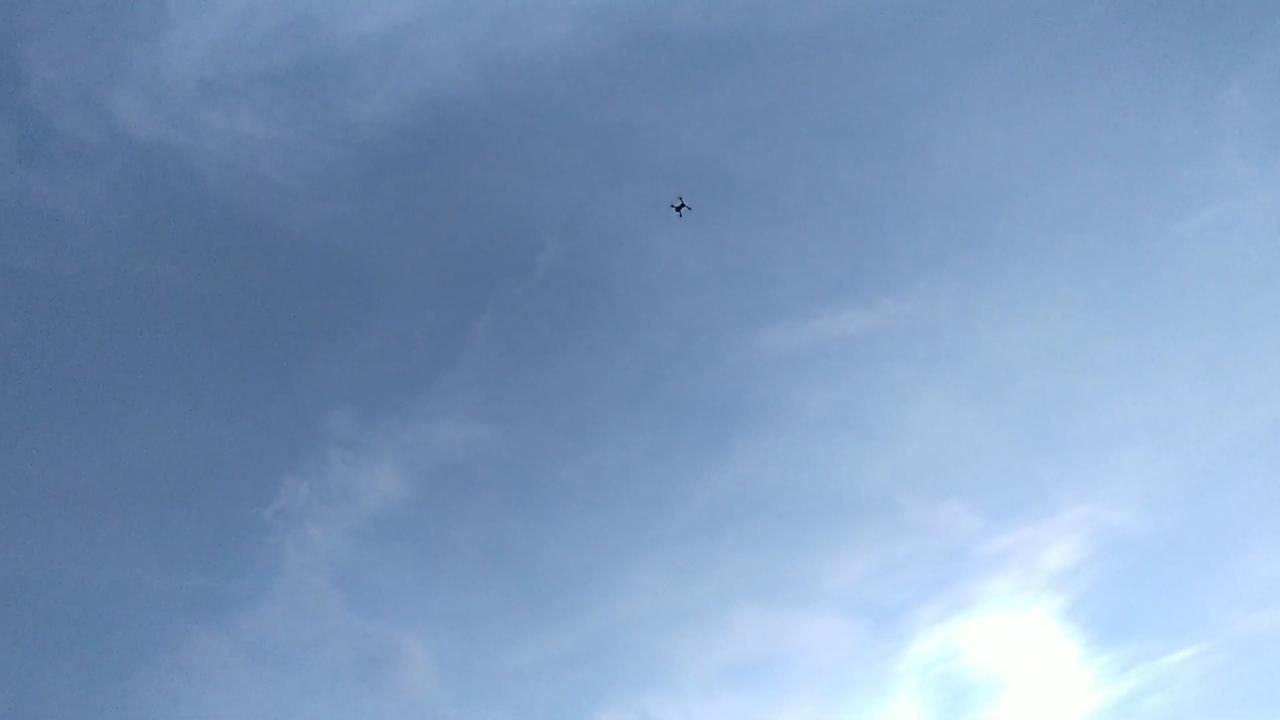Drone: (656, 186, 703, 229)
